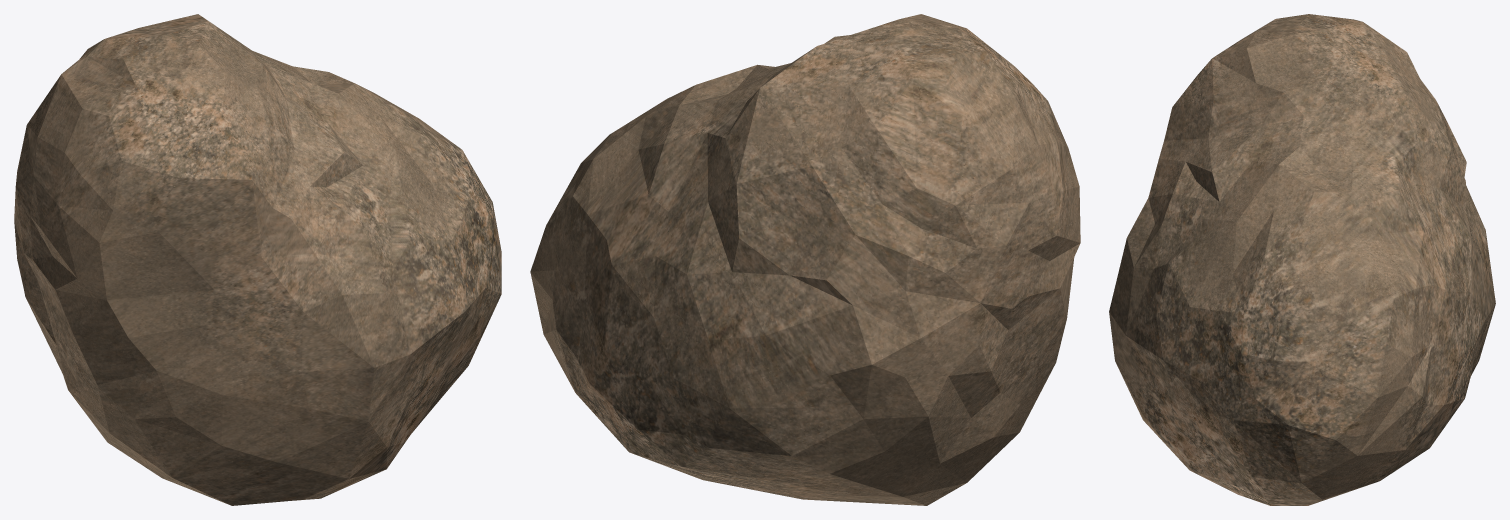
The model's file is stone.gltf.
The picture shows the model from 3 angles, left to right: view 1: azimuth 30°, elevation 25°; view 2: azimuth 150°, elevation 25°; view 3: azimuth 270°, elevation 25°; orthographic projection. The views are drawn at different scales.
Parts seen in each view (by area): view 1: rock lp; view 2: rock lp; view 3: rock lp.
Part boxes in pixels (x1,y1,x2,y2): rock lp: (14, 14, 501, 505); rock lp: (530, 14, 1080, 505); rock lp: (1109, 14, 1495, 505).
Size of the model in its own units: 1.02 by 0.9606 by 0.8412.
1 material, 1 textured.
